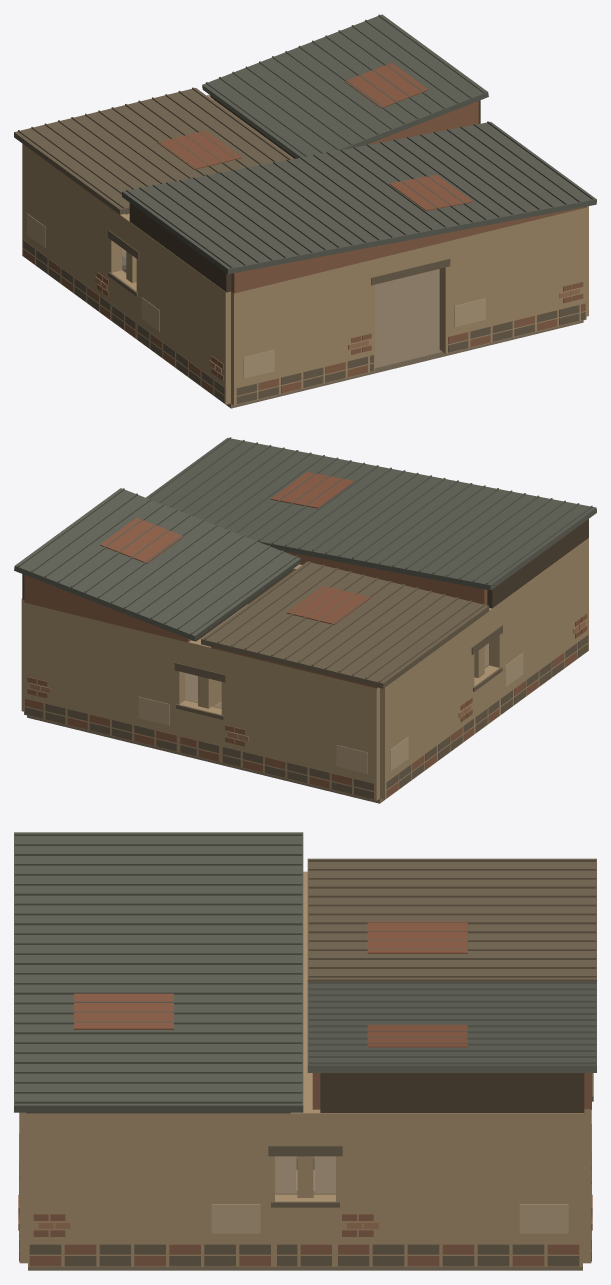
The model's file is FSA_ENV_Abandoned_House_05_Divided.glb.
3 renders of one model, top to bottom at view 1: azimuth 30°, elevation 25°; view 2: azimuth 150°, elevation 25°; view 3: azimuth 270°, elevation 25°, orthographic. The views are drawn at different scales.
Parts seen in each view (by area): view 1: Roof_Front, Roof_RearEast, FrontRight, FrontLeft, Roof_RearWest, WestRight, WestLeft, Floor, RoofEave_498, RoofPatch_413, RoofPatch_398, RoofPatch_383 (+6 smaller); view 2: Roof_Front, Roof_RearEast, Roof_RearWest, BackLeft, BackRight, WestLeft, WestRight, RoofEave_498, RoofPatch_413, RoofPatch_398, RoofPatch_383, BackSill (+7 smaller); view 3: Roof_Front, EastRight, EastLeft, Roof_RearWest, Roof_RearEast, RoofEave_583, Floor, RoofPatch_383, RoofPatch_398, EastSill, RoofPatch_413, EastLintel (+63 smaller).
Boxes of the visible parts, left/top/right/bottom form: Roof_Front: left=121, top=122, right=596, bottom=274; Roof_RearEast: left=202, top=14, right=488, bottom=158; FrontRight: left=439, top=207, right=586, bottom=353; FrontLeft: left=231, top=259, right=374, bottom=405; Roof_RearWest: left=14, top=88, right=292, bottom=214; WestRight: left=136, top=227, right=230, bottom=404; WestLeft: left=22, top=143, right=121, bottom=320; Floor: left=122, top=248, right=583, bottom=408; RoofEave_498: left=129, top=203, right=231, bottom=292; RoofPatch_413: left=344, top=62, right=428, bottom=108; RoofPatch_398: left=157, top=130, right=241, bottom=169; RoofPatch_383: left=389, top=174, right=473, bottom=210; Roof_Front: left=146, top=438, right=596, bottom=590; Roof_RearEast: left=14, top=488, right=300, bottom=640; Roof_RearWest: left=201, top=561, right=489, bottom=688; BackLeft: left=221, top=651, right=379, bottom=800; BackRight: left=24, top=602, right=185, bottom=752; WestLeft: left=380, top=622, right=474, bottom=799; WestRight: left=489, top=538, right=588, bottom=715; RoofEave_498: left=487, top=519, right=588, bottom=608; RoofPatch_413: left=100, top=518, right=183, bottom=563; RoofPatch_398: left=286, top=585, right=370, bottom=624; RoofPatch_383: left=270, top=472, right=354, bottom=508; BackSill: left=179, top=700, right=221, bottom=762; Roof_Front: left=14, top=832, right=303, bottom=1112; EastRight: left=28, top=1113, right=274, bottom=1266; EastLeft: left=336, top=1113, right=582, bottom=1266; Roof_RearWest: left=307, top=858, right=596, bottom=981; Roof_RearEast: left=307, top=981, right=596, bottom=1072; RoofEave_583: left=320, top=1073, right=584, bottom=1112; Floor: left=28, top=1156, right=582, bottom=1270; RoofPatch_383: left=74, top=993, right=173, bottom=1029; RoofPatch_398: left=367, top=921, right=467, bottom=953; EastSill: left=275, top=1194, right=335, bottom=1266; RoofPatch_413: left=367, top=1024, right=467, bottom=1047; EastLintel: left=275, top=1106, right=335, bottom=1145.
Size of the model in its own units: 10.48 by 4.19 by 10.5.
